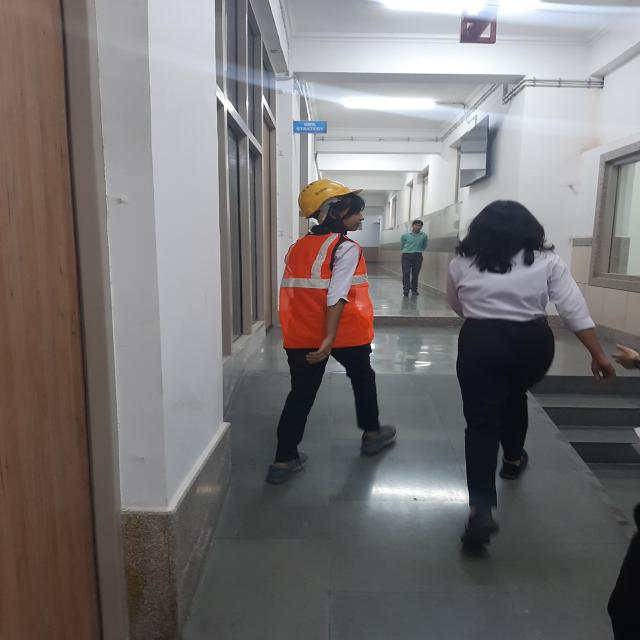safe: (266, 180, 400, 483)
unsafe: (443, 198, 614, 552), (400, 219, 429, 296)
